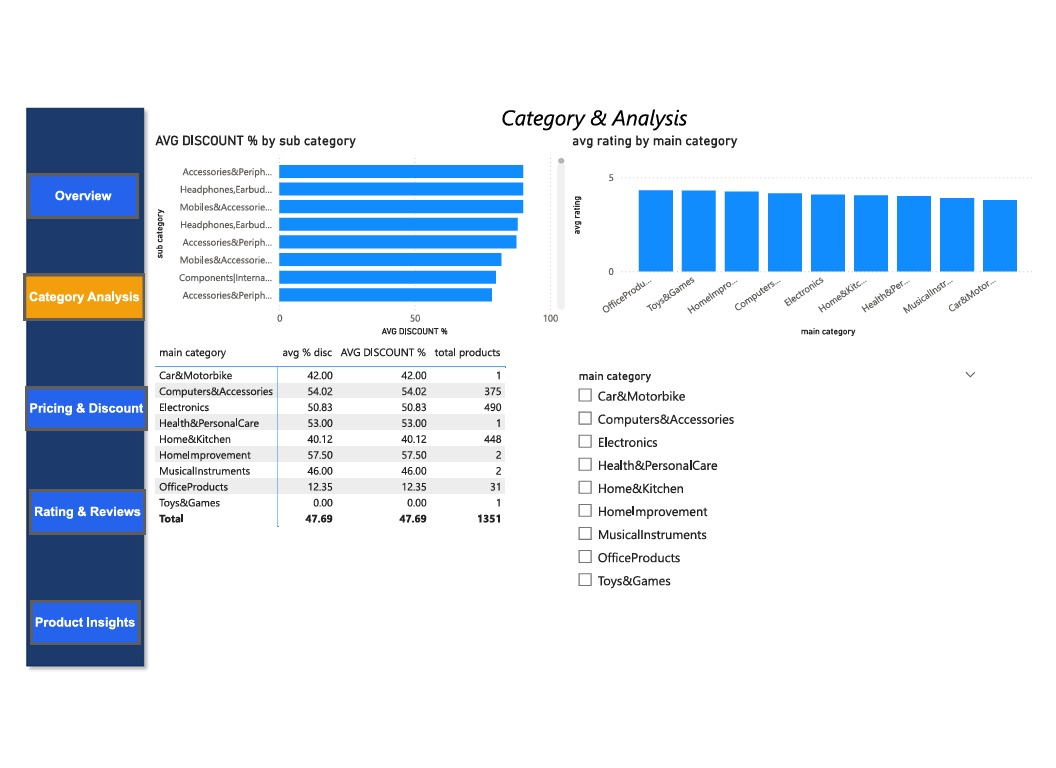

The dashboard page shown, as its layout file describes it:
{"tool":"powerbi","page":{"name":"Category analysis","canvas":[1280,720],"ordinal":1},"visuals":[{"type":"shape","box":[0,0,165.7,720],"z":0},{"type":"actionButton","box":[6.4,218.2,151.3,57.3],"z":1000},{"type":"actionButton","box":[11.2,92.4,138.6,55.8],"z":2000},{"type":"actionButton","box":[8,360,152.9,54.2],"z":3000},{"type":"actionButton","box":[12.7,489,146.5,55.8],"z":4000},{"type":"actionButton","box":[13.8,628.3,138.3,55.3],"z":5000},{"type":"shape","box":[165,0,1115,39.8],"z":6000},{"type":"barChart","fields":{"Category":["amazon.sub category"],"Y":["amazon.AVG DISCOUNT %"]},"box":[165.7,39.8,524.1,261.2],"z":7000},{"type":"columnChart","fields":{"Category":["amazon.main category"],"Y":["amazon.avg rating"]},"box":[689.7,39.8,591,261.2],"z":8000},{"type":"pivotTable","fields":{"Rows":["amazon.main category"],"Values":["amazon.avg % disc","amazon.AVG DISCOUNT %","amazon.total products"]},"box":[165.7,301.1,524.1,258.1],"z":9000},{"type":"slicer","fields":{"Values":["amazon.main category"]},"box":[689.7,332.9,524.1,305.8],"z":10000}]}

Visuals, with their boxes on the page's 1280x720 design canvas (x1, y1, x2, y2). These are canvas units, not pixel positions in the 1056x768 screenshot, which may show the page scaled, cropped or inside an application window:
shape: (0, 0, 166, 720)
actionButton: (6, 218, 158, 276)
actionButton: (11, 92, 150, 148)
actionButton: (8, 360, 161, 414)
actionButton: (13, 489, 159, 545)
actionButton: (14, 628, 152, 684)
shape: (165, 0, 1280, 40)
barChart - amazon.sub category x amazon.AVG DISCOUNT %: (166, 40, 690, 301)
columnChart - amazon.main category x amazon.avg rating: (690, 40, 1281, 301)
pivotTable - amazon.main category x amazon.avg % disc: (166, 301, 690, 559)
slicer - amazon.main category: (690, 333, 1214, 639)
